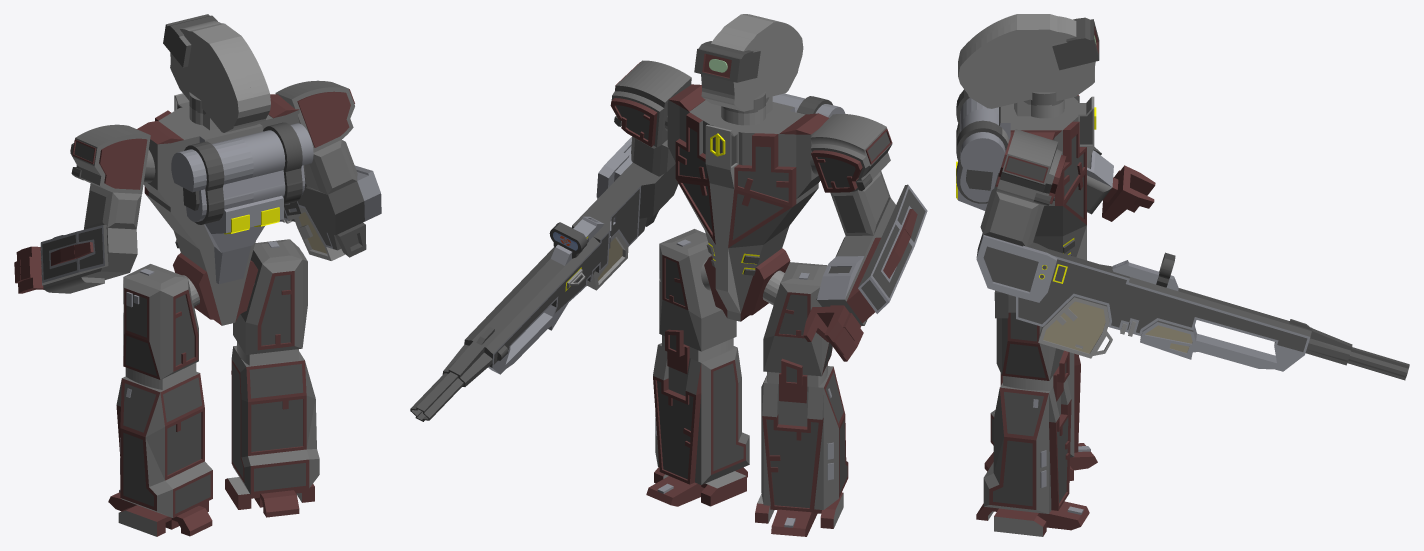
File: infantry_bot_mk3.obj
3 views of the same model, side by side, from view 1: azimuth 30°, elevation 25°; view 2: azimuth 150°, elevation 25°; view 3: azimuth 270°, elevation 25° (orthographic).
Visible parts, largest first — view 1: infantry_bot_mk3-COM-Group_23-54644-CoolGray6, infantry_bot_mk3-COM-Group_6-54643-CoolGray6, infantry_bot_mk3-COM-Group_34-13596-Color_004, infantry_bot_mk3-COM-Group_5-54636-CoolGray5, infantry_bot_mk3-COM-Group_23-54644-Color_0031, infantry_bot_mk3-COM-Group_5-54636-Color_0051, infantry_bot_mk3-GRP-larm-54638-Color_0051, infantry_bot_mk3-COM-Group_6-54643-Color_0031, infantry_bot_mk3-COM-leg_2-54641-Color_0051, infantry_bot_mk3-COM-gun_arm_2-26089-Color_006, infantry_bot_mk3-COM-leg_3-54642-Color_0051, infantry_bot_mk3-COM-Group_36-54635-CoolGray5 (+32 smaller); view 2: infantry_bot_mk3-COM-gun_arm_2-26089-Color_006, infantry_bot_mk3-COM-leg_2-54641-Color_0051, infantry_bot_mk3-COM-Group_5-54636-Color_0051, infantry_bot_mk3-COM-Group_6-54643-CoolGray6, infantry_bot_mk3-COM-Group_34-13596-Color_004, infantry_bot_mk3-COM-Group_6-54643-Color_0031, infantry_bot_mk3-COM-Group_23-54644-Color_0051, infantry_bot_mk3-COM-Group_23-54644-CoolGray6, infantry_bot_mk3-COM-Group_6-54643-Color_0051, infantry_bot_mk3-COM-gun_arm_2-26089-CoolGray5, infantry_bot_mk3-COM-leg_3-54642-Color_0051, infantry_bot_mk3-GRP-larm-54638-Color_0051 (+32 smaller); view 3: infantry_bot_mk3-COM-gun_arm_2-26089-Color_006, infantry_bot_mk3-COM-Group_3-13597-Color_004, infantry_bot_mk3-COM-gun_arm_2-26089-CoolGray5, infantry_bot_mk3-COM-Group_6-54643-Color_0031, infantry_bot_mk3-COM-Group_6-54643-CoolGray6, infantry_bot_mk3-COM-Group_6-54643-Color_0051, infantry_bot_mk3-COM-Group_36-54635-Color_0051, infantry_bot_mk3-COM-Group_36-54635-CoolGray5, infantry_bot_mk3-COM-Group_36-54635-CoolGray6, infantry_bot_mk3-COM-Group_4-54634-Color_0051, infantry_bot_mk3-COM-gun_arm_2-26089-Color_D151, infantry_bot_mk3-GRP-rarm-54637-Color_0051 (+19 smaller).
Part boxes in pixels (left/top/right/bottom): infantry_bot_mk3-COM-Group_23-54644-CoolGray6: left=123, top=377, right=210, bottom=513; infantry_bot_mk3-COM-Group_6-54643-CoolGray6: left=232, top=363, right=305, bottom=491; infantry_bot_mk3-COM-Group_34-13596-Color_004: left=170, top=25, right=254, bottom=132; infantry_bot_mk3-COM-Group_5-54636-CoolGray5: left=171, top=136, right=254, bottom=252; infantry_bot_mk3-COM-Group_23-54644-Color_0031: left=108, top=373, right=212, bottom=536; infantry_bot_mk3-COM-Group_5-54636-Color_0051: left=143, top=92, right=234, bottom=249; infantry_bot_mk3-GRP-larm-54638-Color_0051: left=43, top=183, right=141, bottom=293; infantry_bot_mk3-COM-Group_6-54643-Color_0031: left=225, top=359, right=314, bottom=517; infantry_bot_mk3-COM-leg_2-54641-Color_0051: left=233, top=239, right=307, bottom=354; infantry_bot_mk3-COM-gun_arm_2-26089-Color_006: left=284, top=181, right=366, bottom=257; infantry_bot_mk3-COM-leg_3-54642-Color_0051: left=123, top=264, right=198, bottom=379; infantry_bot_mk3-COM-Group_36-54635-CoolGray5: left=237, top=123, right=313, bottom=248; infantry_bot_mk3-COM-gun_arm_2-26089-Color_006: left=410, top=162, right=678, bottom=421; infantry_bot_mk3-COM-leg_2-54641-Color_0051: left=659, top=229, right=736, bottom=351; infantry_bot_mk3-COM-Group_5-54636-Color_0051: left=726, top=91, right=820, bottom=247; infantry_bot_mk3-COM-Group_6-54643-CoolGray6: left=657, top=363, right=743, bottom=479; infantry_bot_mk3-COM-Group_34-13596-Color_004: left=717, top=18, right=803, bottom=111; infantry_bot_mk3-COM-Group_6-54643-Color_0031: left=646, top=360, right=747, bottom=506; infantry_bot_mk3-COM-Group_23-54644-Color_0051: left=761, top=366, right=847, bottom=509; infantry_bot_mk3-COM-Group_23-54644-CoolGray6: left=766, top=372, right=847, bottom=508; infantry_bot_mk3-COM-Group_6-54643-Color_0051: left=653, top=343, right=749, bottom=484; infantry_bot_mk3-COM-gun_arm_2-26089-CoolGray5: left=488, top=136, right=641, bottom=374; infantry_bot_mk3-COM-leg_3-54642-Color_0051: left=763, top=262, right=828, bottom=376; infantry_bot_mk3-GRP-larm-54638-Color_0051: left=816, top=171, right=895, bottom=325; infantry_bot_mk3-COM-gun_arm_2-26089-Color_006: left=977, top=233, right=1409, bottom=380; infantry_bot_mk3-COM-Group_3-13597-Color_004: left=958, top=22, right=1095, bottom=108; infantry_bot_mk3-COM-gun_arm_2-26089-CoolGray5: left=976, top=234, right=1310, bottom=371; infantry_bot_mk3-COM-Group_6-54643-Color_0031: left=976, top=387, right=1089, bottom=536; infantry_bot_mk3-COM-Group_6-54643-CoolGray6: left=993, top=392, right=1068, bottom=506; infantry_bot_mk3-COM-Group_6-54643-Color_0051: left=983, top=379, right=1071, bottom=513; infantry_bot_mk3-COM-Group_36-54635-Color_0051: left=999, top=92, right=1091, bottom=236; infantry_bot_mk3-COM-Group_36-54635-CoolGray5: left=958, top=109, right=1010, bottom=210; infantry_bot_mk3-COM-Group_36-54635-CoolGray6: left=956, top=110, right=1092, bottom=217; infantry_bot_mk3-COM-Group_4-54634-Color_0051: left=996, top=129, right=1062, bottom=205; infantry_bot_mk3-COM-gun_arm_2-26089-Color_D151: left=1043, top=301, right=1192, bottom=353; infantry_bot_mk3-GRP-rarm-54637-Color_0051: left=980, top=187, right=1043, bottom=246.
Bounding box in the file's own units: 1.48 × 2.17 × 1.9.
